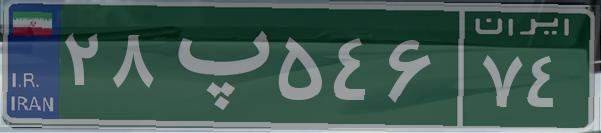2: (57, 26, 110, 107)
4: (330, 28, 385, 110), (525, 38, 570, 115)
5: (273, 28, 330, 110)
6: (385, 28, 445, 110)
7: (475, 38, 525, 113)
8: (110, 28, 158, 105)
پ: (158, 15, 273, 115)
